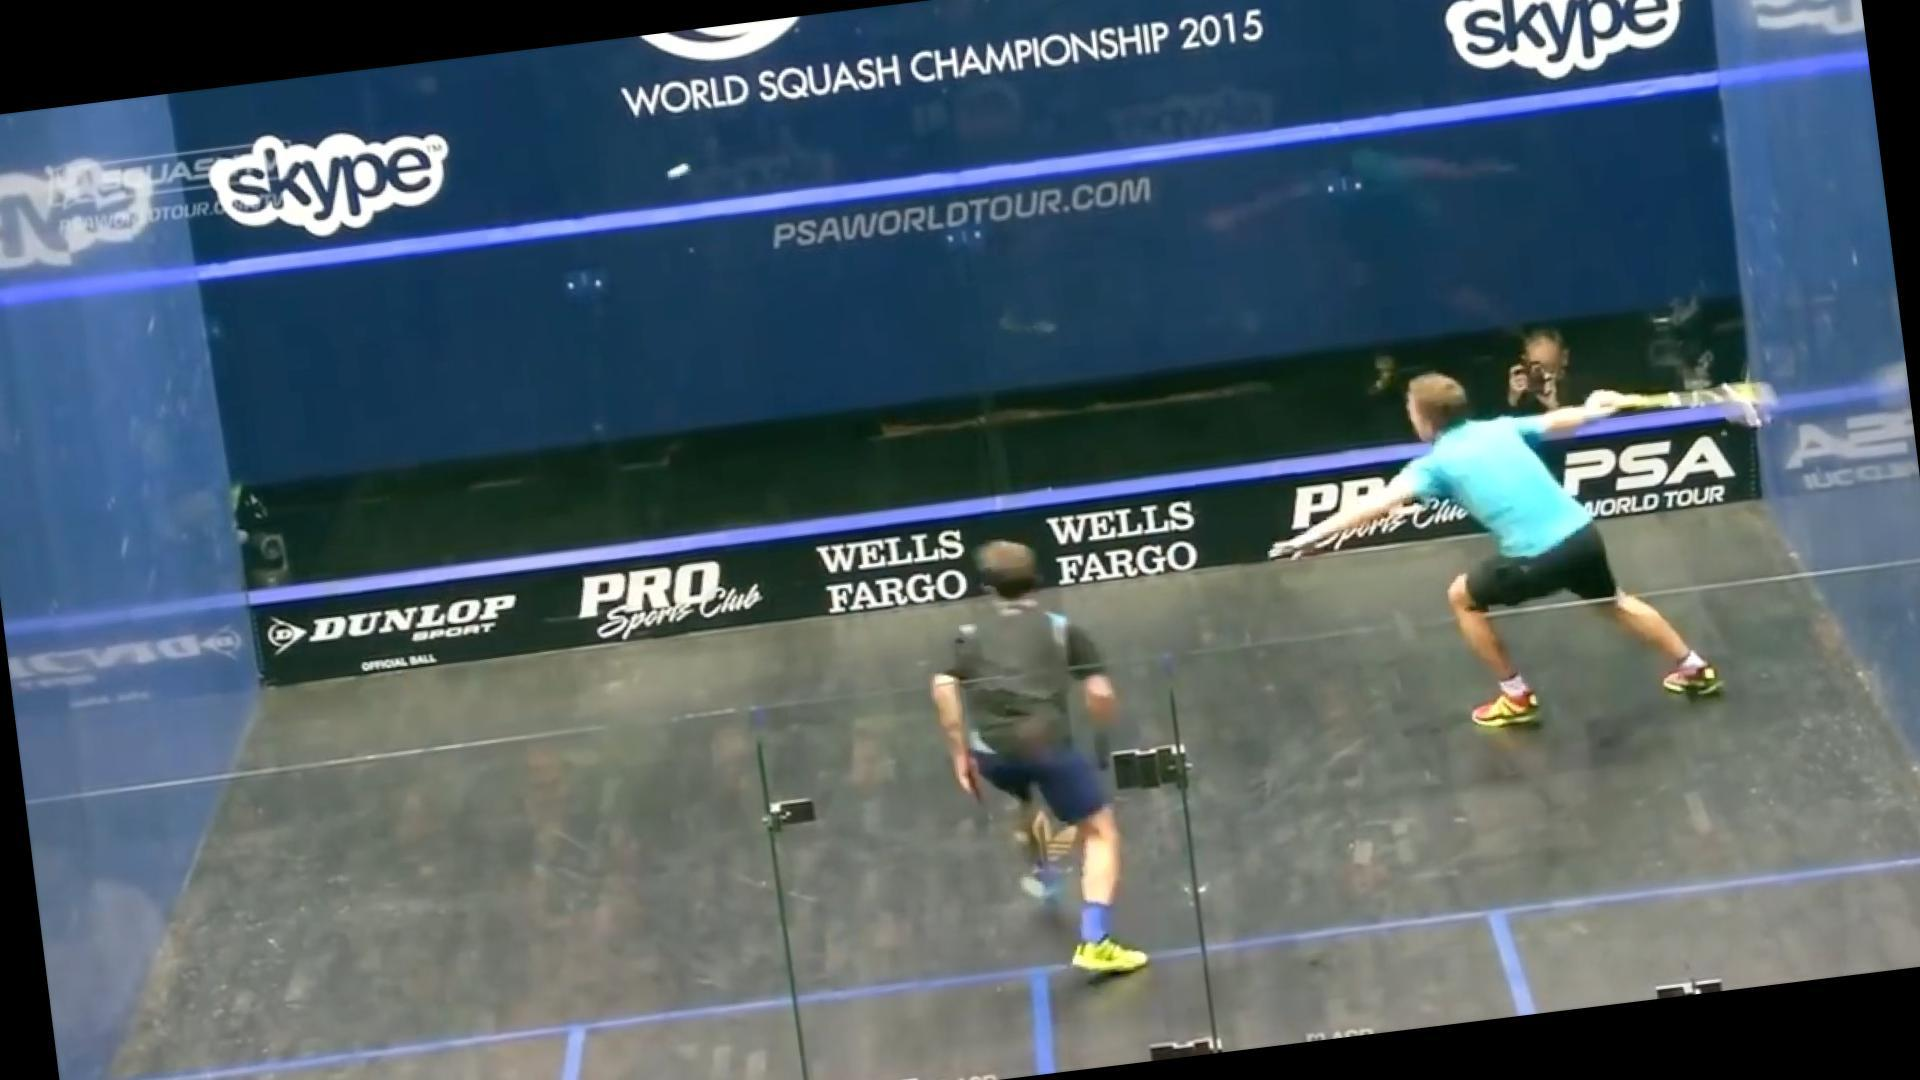Squash-Ball: (641, 142, 717, 193)
